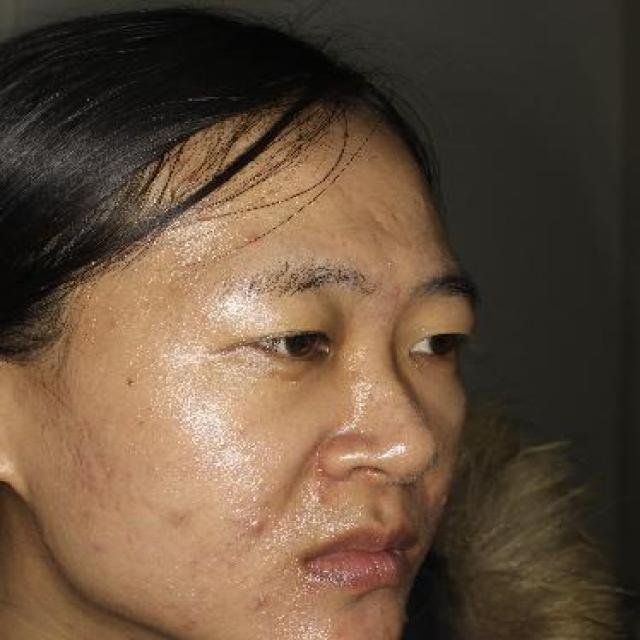papules: (252, 591, 274, 609), (248, 518, 267, 537)
